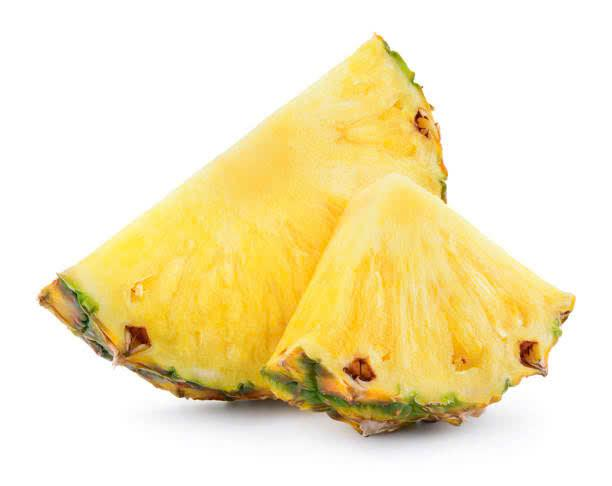pineapple: (259, 172, 582, 420)
